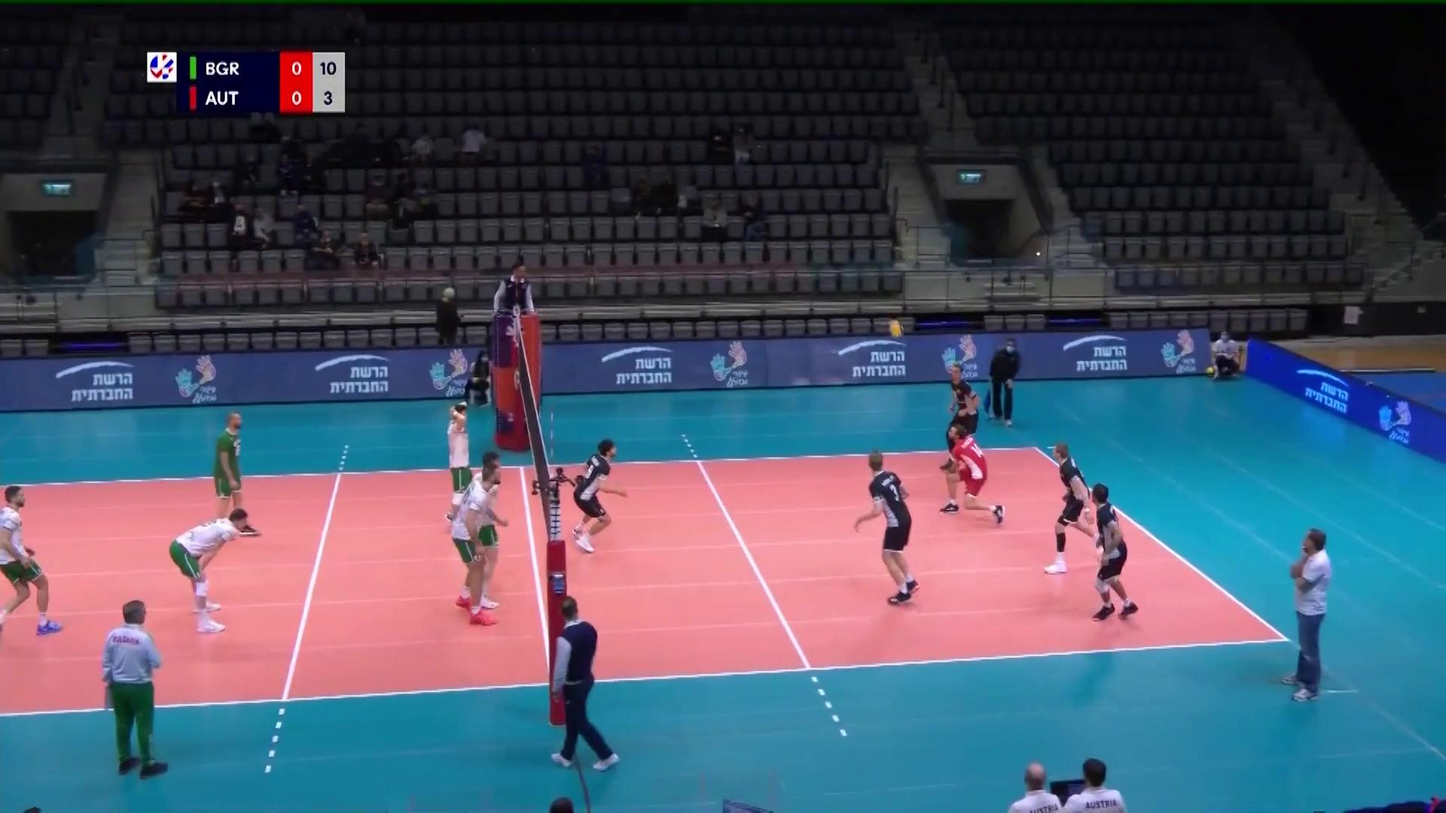ball: (888, 317, 904, 339)
